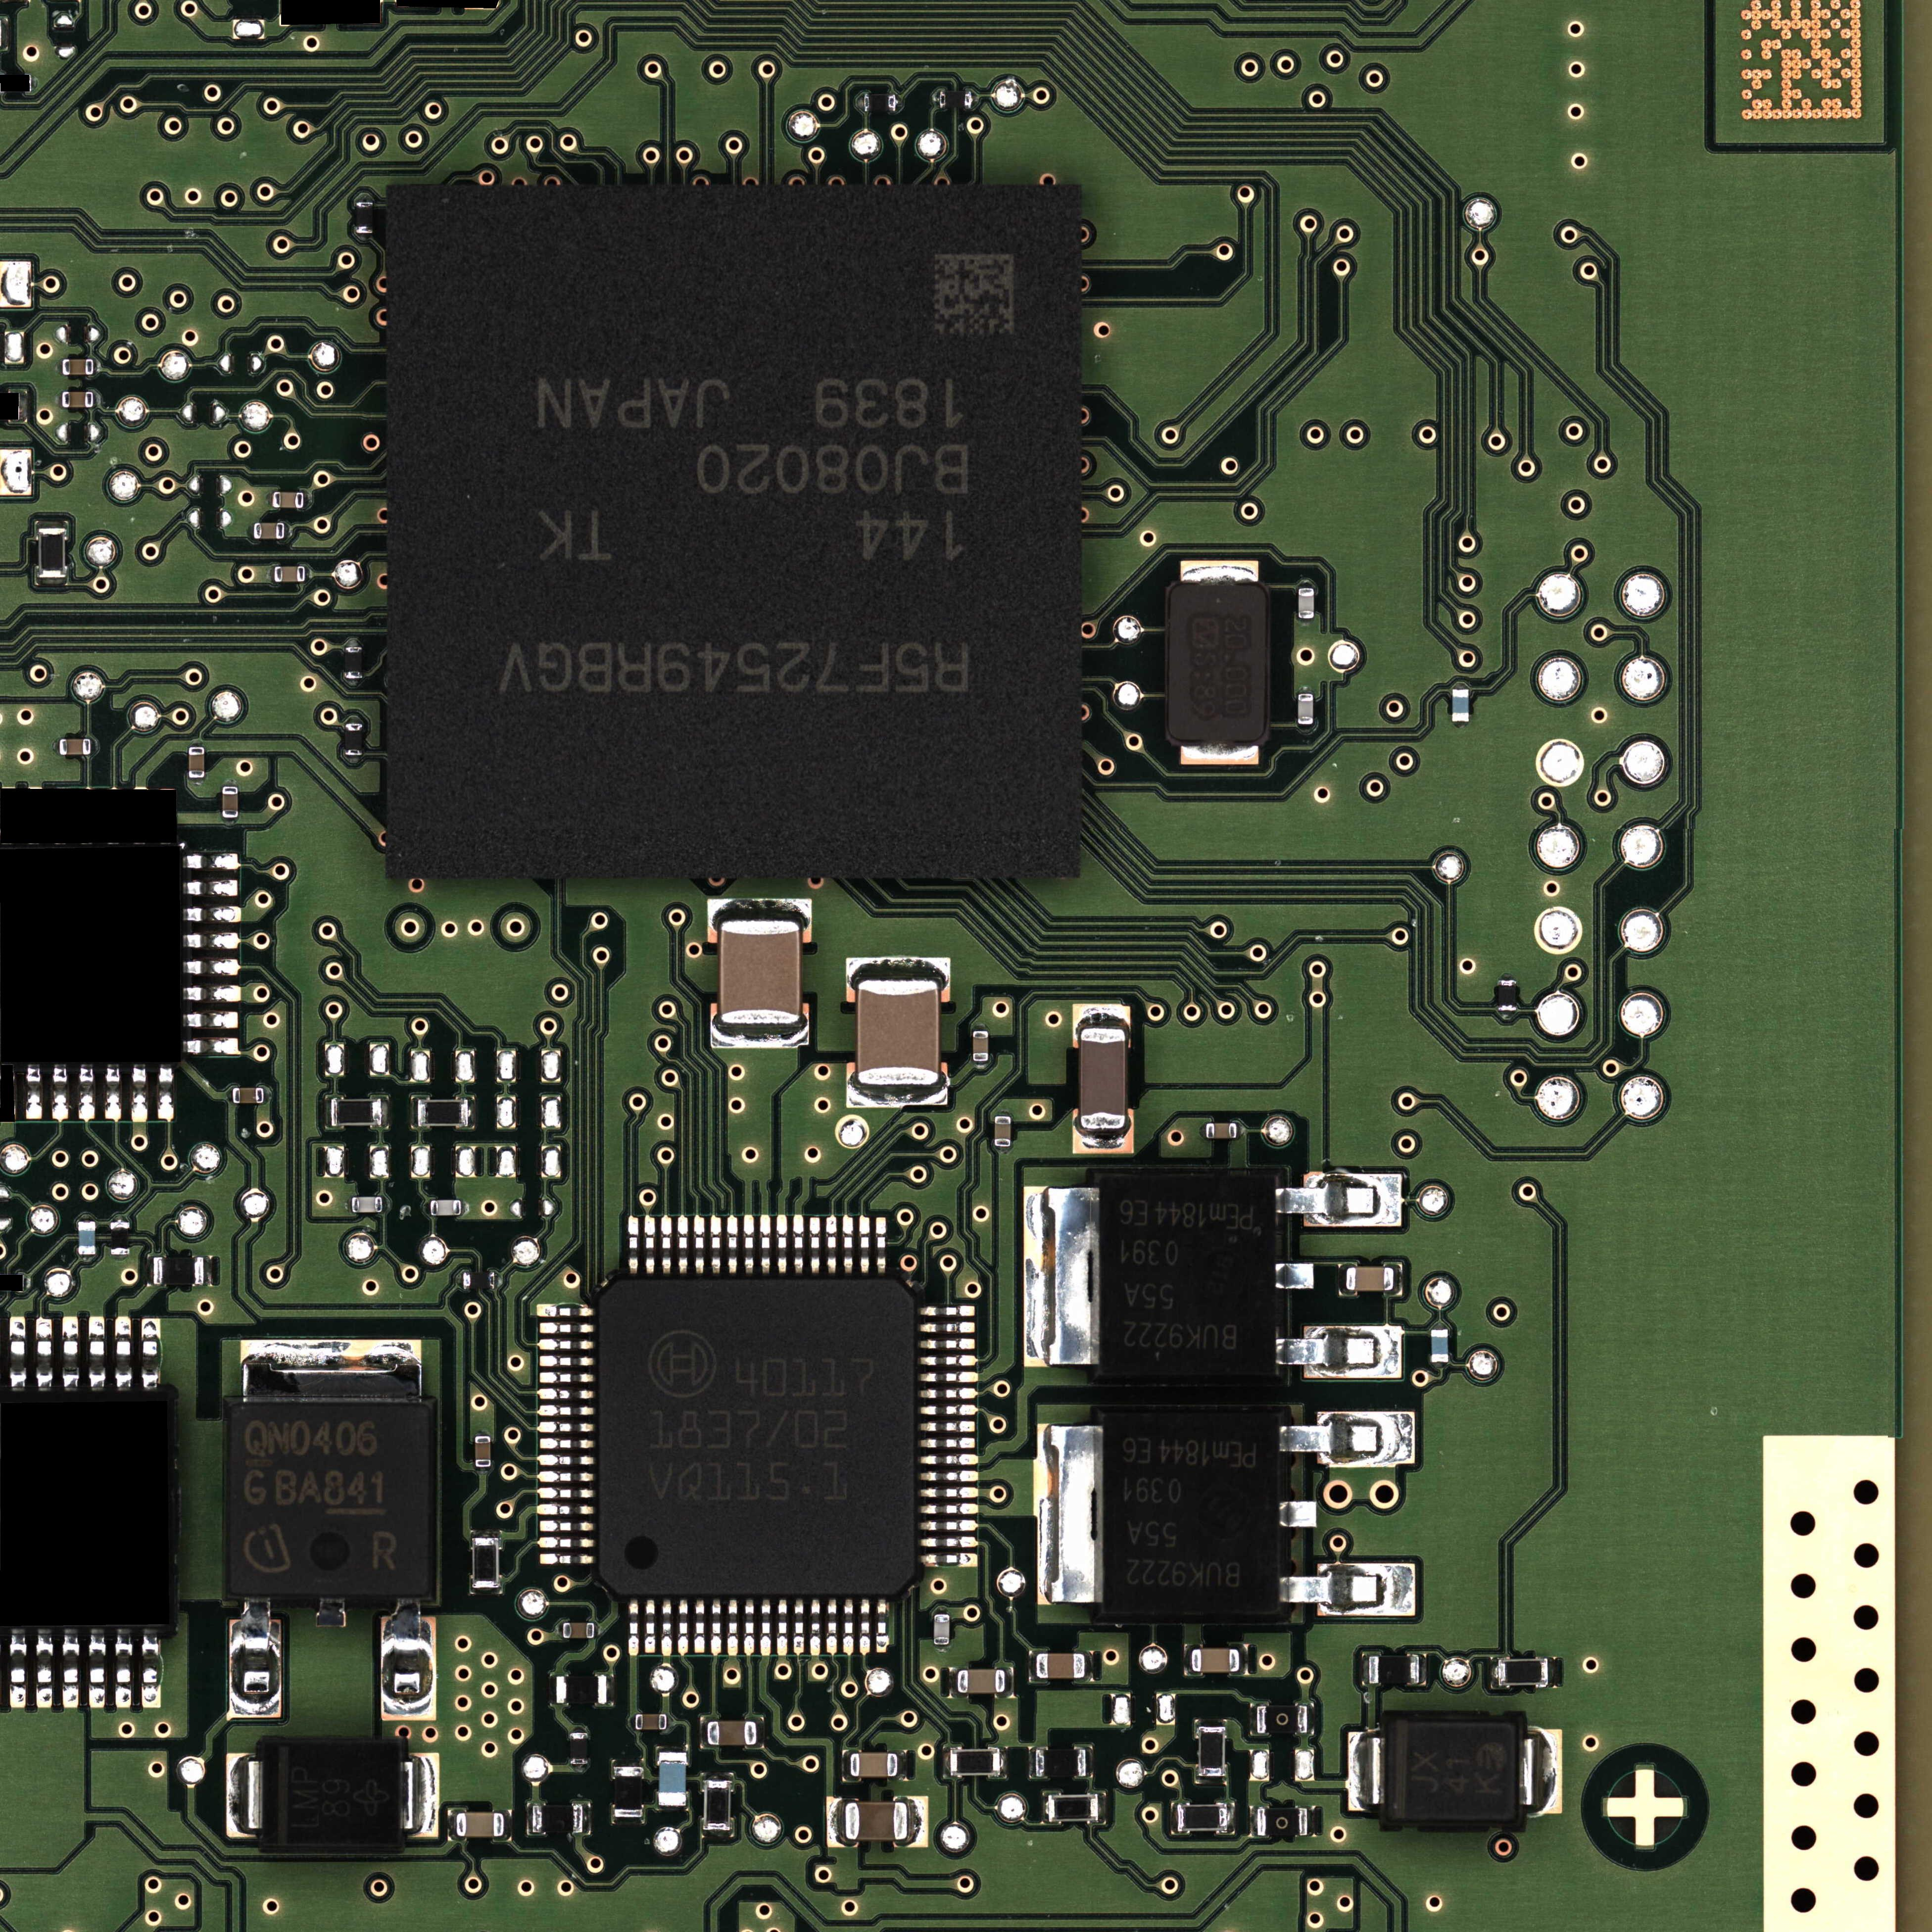Package: (382, 182, 1086, 879), (596, 1276, 920, 1599), (226, 1403, 437, 1598), (1102, 1412, 1279, 1619), (1099, 1175, 1276, 1380), (1168, 582, 1269, 741), (262, 1739, 403, 1849), (1384, 1720, 1522, 1824), (856, 980, 941, 1085), (718, 920, 801, 1024), (1079, 1028, 1125, 1129), (844, 1801, 908, 1840), (658, 1753, 686, 1806), (1256, 1706, 1307, 1734), (1256, 1808, 1307, 1836), (1035, 1750, 1086, 1778), (556, 1675, 607, 1704), (1369, 1656, 1419, 1684), (950, 1748, 1000, 1776), (614, 1767, 642, 1817), (533, 1805, 582, 1833), (154, 1256, 203, 1284), (418, 1100, 469, 1127), (1047, 1796, 1099, 1822), (39, 529, 65, 579), (1499, 1660, 1548, 1686), (1177, 1805, 1226, 1831), (1037, 1652, 1085, 1679), (331, 1100, 380, 1125), (1200, 1727, 1224, 1776), (474, 1537, 499, 1587), (957, 1668, 1005, 1693), (1346, 1267, 1394, 1292), (706, 1780, 729, 1829), (708, 1721, 757, 1744), (1192, 1649, 1240, 1672), (456, 1813, 504, 1836), (851, 1753, 897, 1776), (345, 724, 364, 755), (78, 1221, 96, 1254), (570, 1734, 589, 1764), (1431, 1330, 1449, 1362), (356, 202, 373, 234), (345, 648, 363, 679), (111, 1223, 129, 1254), (939, 90, 971, 108), (1499, 980, 1516, 1010), (994, 1116, 1012, 1146), (1453, 690, 1468, 722), (635, 1714, 667, 1730), (189, 747, 205, 778), (464, 1272, 495, 1288), (563, 1622, 594, 1638), (62, 359, 94, 375), (863, 96, 895, 111), (272, 492, 304, 508), (62, 391, 94, 407), (430, 1200, 462, 1215), (973, 1030, 989, 1062), (1299, 587, 1315, 619), (223, 787, 239, 817), (255, 524, 285, 540), (352, 1196, 382, 1212), (274, 566, 304, 582), (934, 1614, 950, 1644), (1299, 694, 1313, 725), (60, 740, 90, 754), (1207, 1123, 1237, 1138), (476, 1437, 490, 1467), (234, 1088, 264, 1102)
Solder: (1024, 1185, 1099, 1366), (1039, 1424, 1102, 1603), (241, 1341, 421, 1401), (1279, 1410, 1415, 1467), (1281, 1562, 1415, 1617), (1276, 1173, 1403, 1228), (1276, 1323, 1403, 1378), (380, 1599, 435, 1720), (230, 1599, 281, 1718), (1523, 1729, 1562, 1813), (226, 1753, 262, 1838), (405, 1755, 439, 1836), (1348, 1732, 1382, 1812), (846, 1085, 948, 1108), (709, 1024, 810, 1047), (708, 899, 812, 920), (847, 957, 950, 978), (1180, 743, 1258, 764), (1180, 561, 1258, 582), (1074, 1003, 1129, 1028), (35, 1633, 53, 1707), (62, 1635, 80, 1709), (88, 1635, 106, 1709), (9, 1635, 27, 1707), (143, 1635, 161, 1707), (117, 1316, 134, 1389), (9, 1316, 27, 1387), (35, 1318, 53, 1389), (62, 1316, 80, 1387), (88, 1318, 106, 1389), (142, 1318, 159, 1389), (117, 1635, 133, 1709), (1077, 1129, 1131, 1150), (51, 1063, 69, 1120), (78, 1063, 96, 1120), (104, 1065, 122, 1122), (184, 906, 239, 924), (184, 932, 239, 950), (908, 1798, 927, 1847), (1276, 1263, 1315, 1288), (1279, 1502, 1318, 1527), (25, 1065, 42, 1118), (184, 985, 241, 1001), (131, 1065, 147, 1122), (157, 1065, 173, 1122), (826, 1798, 844, 1847), (184, 879, 239, 895), (184, 959, 239, 975), (184, 1012, 239, 1028), (184, 1039, 239, 1054), (315, 1598, 345, 1626), (184, 853, 237, 869), (536, 1304, 594, 1318), (759, 1214, 771, 1276), (918, 1387, 978, 1399), (709, 1215, 722, 1276), (660, 1215, 672, 1276), (536, 1470, 594, 1483), (920, 1536, 978, 1548), (920, 1470, 978, 1483), (920, 1371, 978, 1384), (536, 1454, 594, 1467), (920, 1486, 978, 1499), (920, 1553, 978, 1566), (793, 1598, 805, 1656), (536, 1405, 594, 1417), (536, 1504, 594, 1516), (842, 1598, 855, 1656), (743, 1598, 755, 1656), (538, 1355, 594, 1368), (538, 1322, 594, 1334), (644, 1598, 656, 1654), (540, 1371, 594, 1384), (540, 1520, 594, 1532), (540, 1553, 594, 1566), (920, 1421, 975, 1433), (920, 1437, 975, 1449), (920, 1322, 975, 1334), (694, 1598, 706, 1652), (876, 1599, 888, 1654), (793, 1214, 803, 1276), (777, 1214, 787, 1276), (644, 1215, 655, 1276), (743, 1215, 754, 1276), (826, 1215, 837, 1276), (628, 1215, 639, 1276), (727, 1215, 738, 1276), (842, 1215, 853, 1276), (694, 1215, 704, 1276), (678, 1215, 688, 1276), (860, 1215, 870, 1276), (920, 1454, 978, 1465), (920, 1355, 978, 1366), (536, 1422, 594, 1433), (920, 1520, 978, 1530), (920, 1405, 978, 1415), (777, 1598, 787, 1656), (920, 1504, 978, 1514), (860, 1598, 870, 1656), (536, 1488, 594, 1499), (761, 1598, 771, 1656), (727, 1598, 738, 1656), (711, 1598, 722, 1656), (810, 1598, 821, 1656), (662, 1598, 672, 1656), (826, 1598, 837, 1656), (678, 1598, 688, 1656), (810, 1217, 821, 1276), (876, 1217, 886, 1276), (538, 1339, 594, 1350), (538, 1537, 594, 1548), (538, 1389, 594, 1399), (538, 1438, 594, 1449), (628, 1599, 639, 1656), (920, 1306, 975, 1316), (920, 1339, 975, 1350), (947, 1667, 957, 1698), (1085, 1651, 1095, 1683), (203, 1256, 214, 1286), (897, 1750, 908, 1780), (19, 389, 28, 423), (1196, 1776, 1228, 1785), (471, 1529, 502, 1537), (941, 1746, 950, 1778), (755, 1716, 764, 1748), (582, 1803, 591, 1835), (842, 1750, 851, 1782), (1184, 1644, 1192, 1675), (612, 1759, 644, 1767), (1099, 1792, 1108, 1824), (1394, 1263, 1403, 1295), (1338, 1263, 1346, 1295), (448, 1808, 456, 1840), (702, 1829, 734, 1838), (35, 520, 67, 529), (1307, 1806, 1316, 1836), (1005, 1667, 1014, 1697), (1240, 1644, 1249, 1674), (1196, 1718, 1226, 1727), (1028, 1651, 1037, 1681), (702, 1771, 732, 1780), (35, 579, 69, 586), (2, 18, 9, 51), (471, 1589, 502, 1596), (1419, 1654, 1426, 1686), (656, 1744, 688, 1752), (382, 1097, 389, 1129), (701, 1716, 708, 1748), (410, 1097, 418, 1129), (1086, 1746, 1093, 1778), (1361, 1652, 1368, 1684), (1028, 1746, 1035, 1778), (1548, 1658, 1555, 1688), (504, 1810, 511, 1840), (1228, 1803, 1235, 1833), (1307, 1704, 1315, 1734), (614, 1817, 644, 1824), (324, 1097, 331, 1127), (147, 1256, 154, 1286), (1171, 1803, 1178, 1833), (548, 1675, 556, 1704), (607, 1675, 614, 1704), (1042, 1794, 1049, 1822), (570, 1764, 589, 1773), (658, 1806, 688, 1812), (469, 1097, 474, 1127), (90, 738, 99, 755), (1453, 681, 1470, 690), (971, 1023, 989, 1031), (1299, 579, 1315, 587), (934, 1605, 950, 1614), (934, 1645, 950, 1654), (78, 1254, 97, 1261), (1451, 722, 1470, 729), (382, 1198, 391, 1212), (1297, 725, 1315, 732), (1297, 619, 1315, 626), (356, 195, 373, 202), (53, 738, 60, 755), (1499, 1012, 1516, 1019), (345, 679, 363, 686), (78, 1214, 96, 1221), (111, 1254, 129, 1261), (1499, 973, 1516, 980), (356, 234, 373, 241), (345, 755, 363, 763), (856, 94, 863, 111), (32, 74, 39, 92), (1431, 1322, 1447, 1329), (264, 1088, 271, 1104), (189, 740, 205, 747), (223, 817, 239, 824), (667, 1714, 674, 1730), (248, 524, 255, 540), (1200, 1123, 1207, 1139), (1237, 1122, 1244, 1138), (304, 566, 311, 582), (265, 492, 272, 508), (1297, 686, 1313, 694), (113, 1215, 129, 1223), (347, 640, 363, 648), (895, 96, 902, 111), (456, 1272, 464, 1288), (474, 1430, 490, 1437), (973, 1062, 989, 1069), (594, 1622, 602, 1638), (345, 717, 361, 724), (25, 1276, 32, 1292), (345, 1198, 352, 1212), (462, 1201, 469, 1215), (223, 780, 237, 787), (226, 1088, 234, 1102), (1431, 1362, 1449, 1368), (304, 492, 310, 510), (973, 90, 978, 108), (570, 1727, 587, 1732), (934, 90, 939, 108), (495, 1274, 502, 1286), (189, 778, 205, 784), (476, 1467, 492, 1472), (630, 1714, 635, 1730), (557, 1622, 563, 1638), (94, 359, 99, 375), (994, 1146, 1010, 1152), (996, 1109, 1012, 1115), (57, 359, 62, 375), (57, 391, 62, 407), (269, 566, 274, 582), (425, 1201, 430, 1215), (94, 393, 99, 407)
